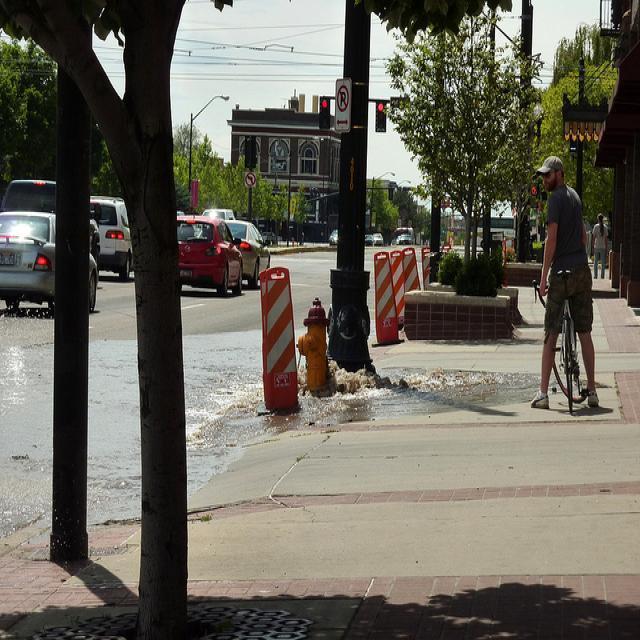fire_hydrant: (296, 296, 330, 394)
